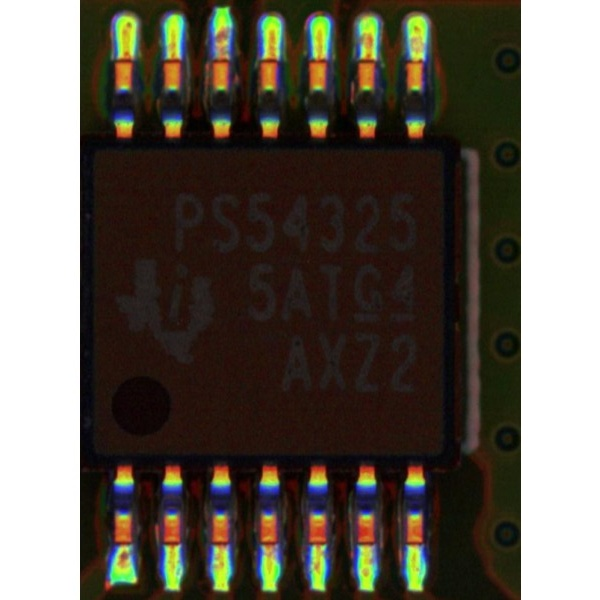Bad_podu: (360, 42, 373, 78), (264, 39, 276, 76), (312, 39, 323, 78), (213, 42, 225, 77), (166, 41, 176, 81), (213, 531, 226, 561), (119, 43, 129, 79), (261, 531, 273, 561), (165, 531, 177, 559), (311, 531, 322, 561)
